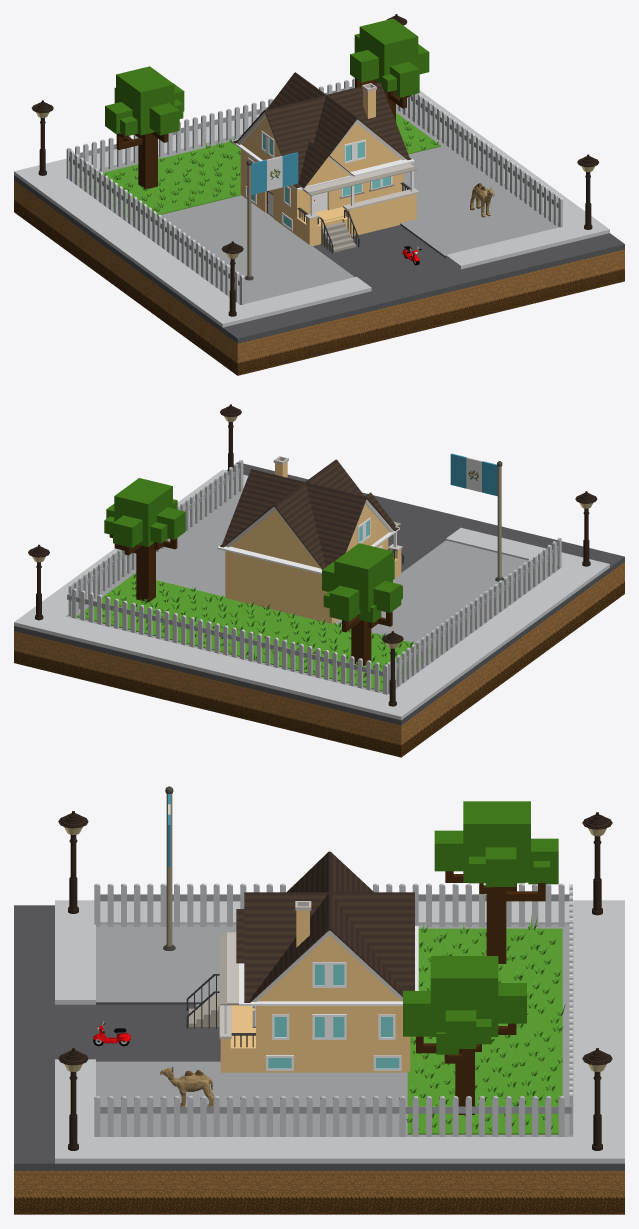
3 views of the same model, one above another, from view 1: azimuth 30°, elevation 25°; view 2: azimuth 150°, elevation 25°; view 3: azimuth 270°, elevation 25° (orthographic). The views are drawn at different scales.
Parts seen in each view (by area): view 1: Cube.004, Cube.235, OBJRANDOM_GUATEMALAN_FLAG, ANIMAL_CAMELLO; view 2: Cube.004, Cube.235, OBJRANDOM_GUATEMALAN_FLAG; view 3: Cube.004, Cube.235, OBJRANDOM_GUATEMALAN_FLAG, ANIMAL_CAMELLO.
Part boxes in pixels (x1,y1,x2,y2): Cube.004: (14,14,624,375); Cube.235: (232,72,419,253); OBJRANDOM_GUATEMALAN_FLAG: (244,152,298,280); ANIMAL_CAMELLO: (470,183,494,217); Cube.004: (14,404,624,757); Cube.235: (217,456,403,623); OBJRANDOM_GUATEMALAN_FLAG: (450,453,503,581); Cube.004: (14,801,624,1214); Cube.235: (186,851,418,1072); OBJRANDOM_GUATEMALAN_FLAG: (163,786,175,950); ANIMAL_CAMELLO: (160,1066,213,1106).
Bounding box in the file's own units: 4000 × 1783 × 4000.
39 materials, 3 textured.
